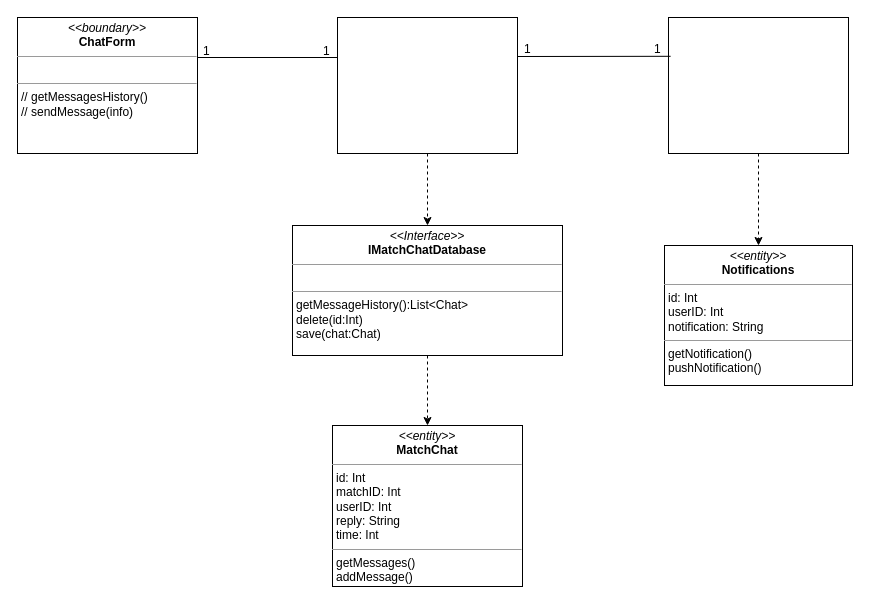
The diagram is 870 pixels wide and 604 high, and some of its shapes have lost their labels. The shapes that lost their labels are listed below. From the top down, each one's box as (x1, y1, x2, y2) in pixels, then its label:
(336, 16, 518, 154): <<control>> ChatController // addMessage(info) // addNotification(info)
(668, 16, 848, 154): <<control>> ChatController // pushNotification(info)
